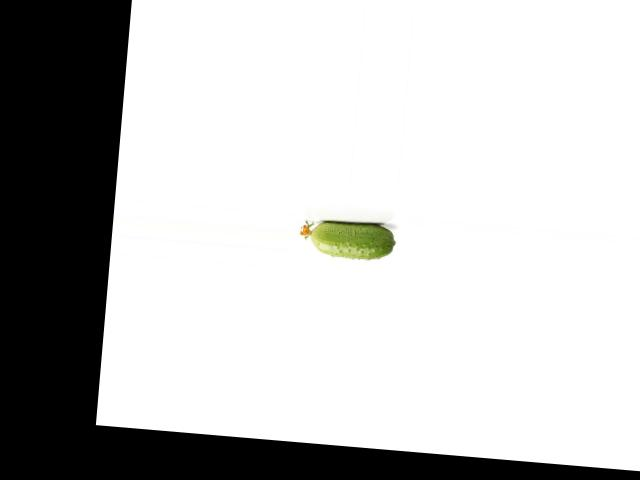cucumber: (299, 216, 398, 261)
